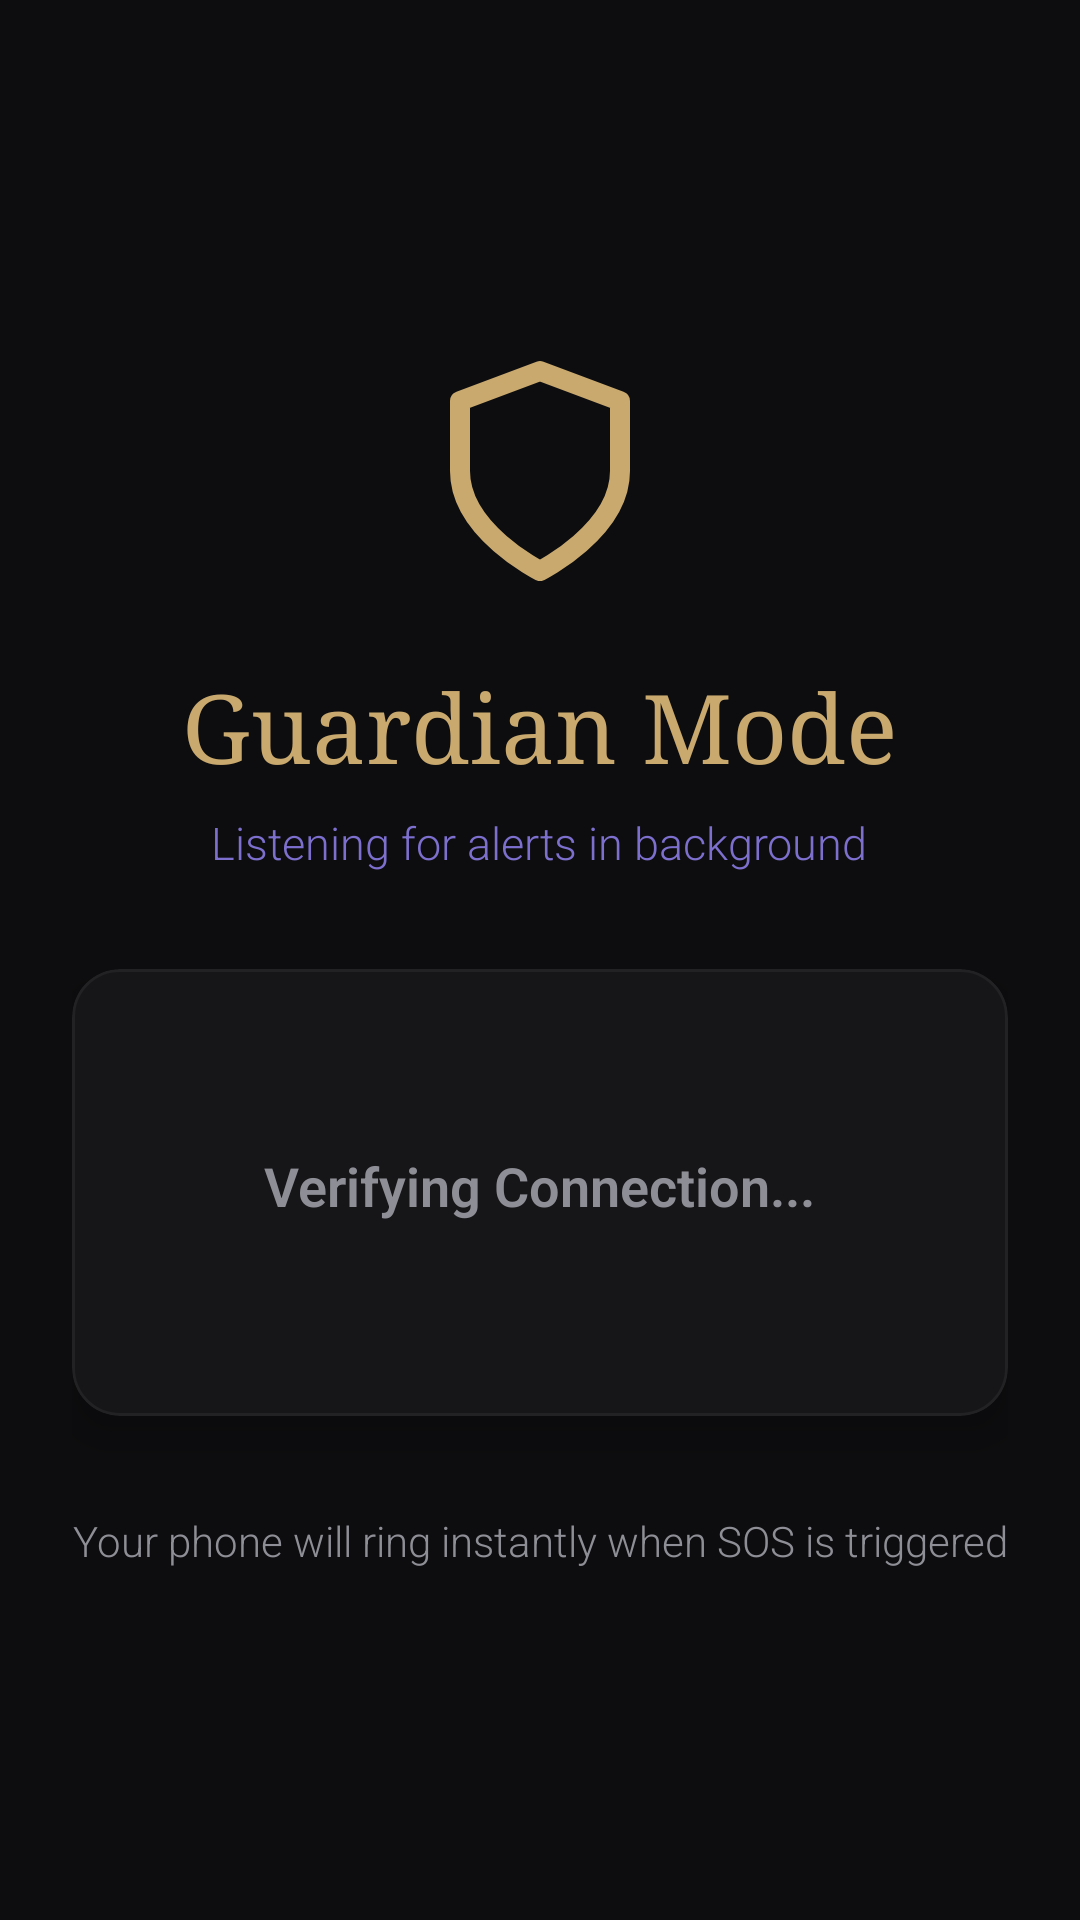

Locate icon controls on the screen. Image size 1080px x 1920px, boxes as detection(x1, y1, x2, y2).
shield vlynxly: detection(450, 361, 630, 581)
